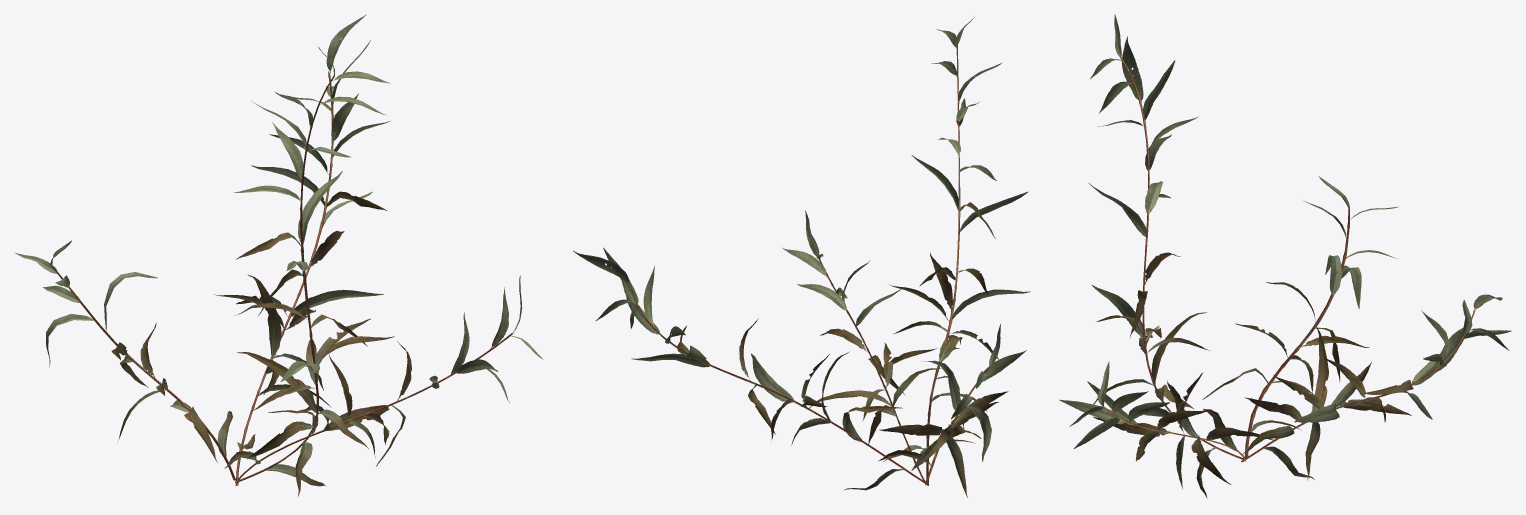
3 views of the same model, side by side, from view 1: azimuth 30°, elevation 25°; view 2: azimuth 150°, elevation 25°; view 3: azimuth 270°, elevation 25° (orthographic). The views are drawn at different scales.
Parts seen in each view (by area): view 1: shrub_02__d_lod0; view 2: shrub_02__d_lod0; view 3: shrub_02__d_lod0.
Boxes of the visible parts, x1,y1,x2,y2 form: shrub_02__d_lod0: [14, 14, 543, 496]; shrub_02__d_lod0: [573, 16, 1030, 497]; shrub_02__d_lod0: [1059, 14, 1511, 498].
Size of the model in its own units: 1.08 by 1.23 by 1.1.
Materials: 1 (1 with a texture image).
